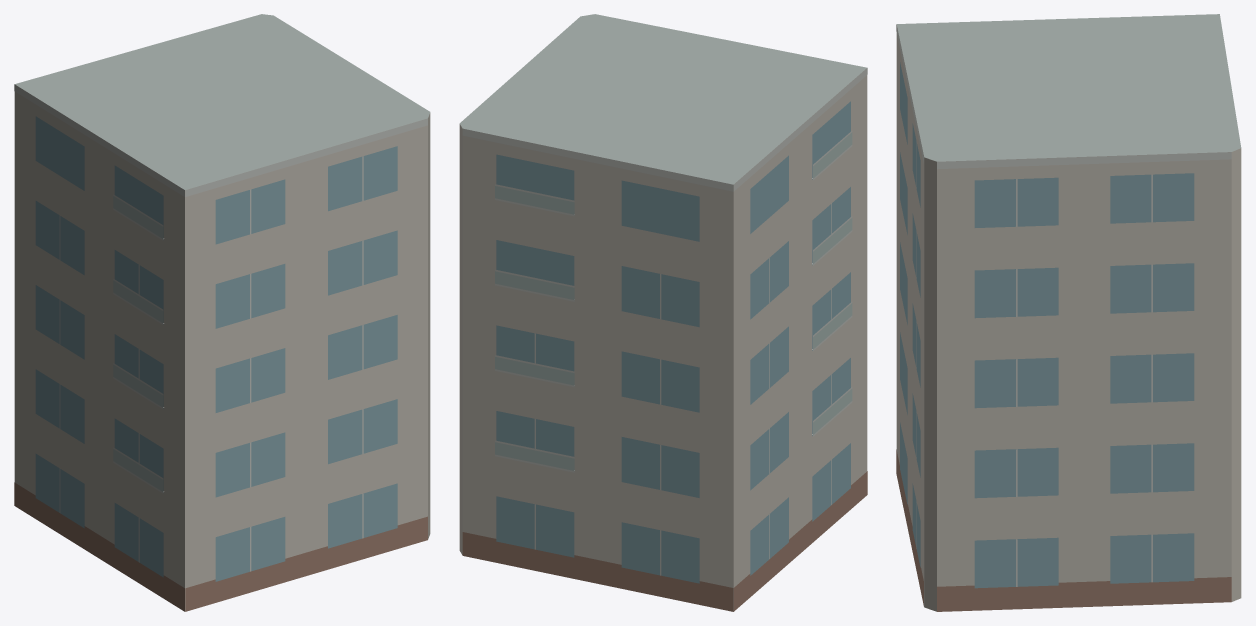
File: survey-upis-32653068.glb
The picture shows the model from 3 angles, left to right: view 1: azimuth 30°, elevation 25°; view 2: azimuth 150°, elevation 25°; view 3: azimuth 270°, elevation 25°; orthographic projection. The views are drawn at different scales.
Visible parts, largest first — view 1: survey-upis-32653068.tmp; view 2: survey-upis-32653068.tmp; view 3: survey-upis-32653068.tmp.
Boxes of the visible parts, box(x1,y1,x2,y2) form: survey-upis-32653068.tmp: box(14, 14, 430, 611); survey-upis-32653068.tmp: box(459, 14, 867, 611); survey-upis-32653068.tmp: box(896, 14, 1241, 611).
Size of the model in its own units: 10.39 by 14.75 by 10.25.
